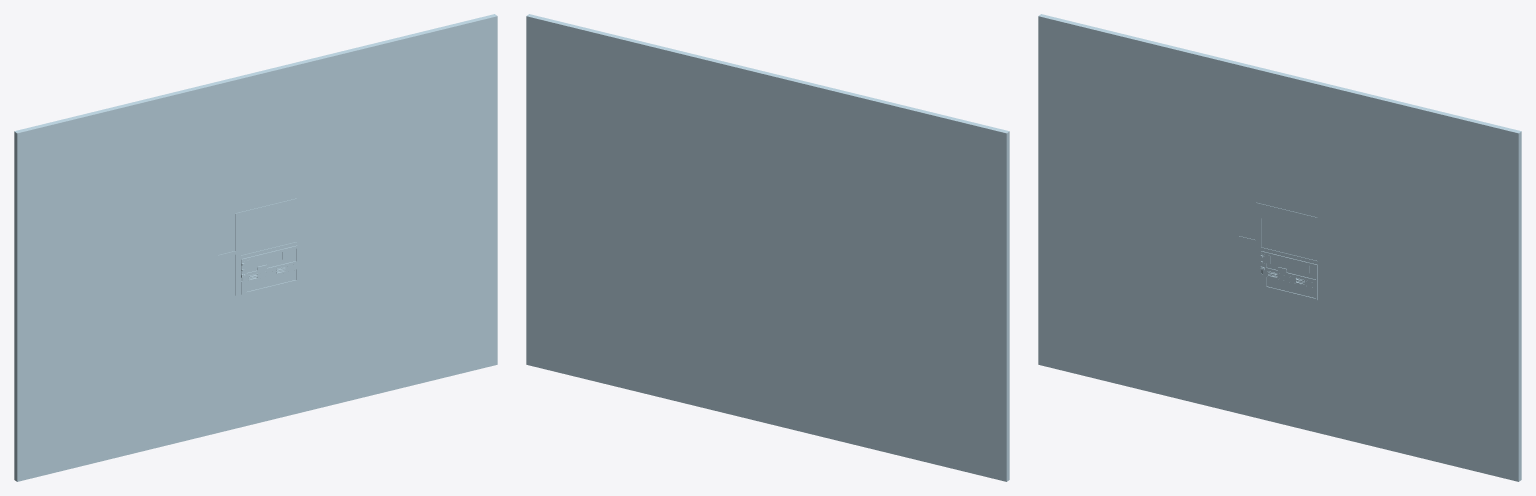
Rendered from plan.gltf.
3 views of the same model, side by side, from view 1: azimuth 30°, elevation 25°; view 2: azimuth 150°, elevation 25°; view 3: azimuth 330°, elevation 25° (orthographic).
Visible parts, largest first — view 1: mesh206_meshnode_206, mesh210_meshnode_210, mesh202_meshnode_202, mesh209_meshnode_209, mesh4_meshnode_4, mesh44_meshnode_44, mesh52_meshnode_52; view 2: mesh211_meshnode_211, mesh210_meshnode_210, mesh209_meshnode_209; view 3: mesh206_meshnode_206, mesh210_meshnode_210, mesh202_meshnode_202, mesh207_meshnode_207, mesh4_meshnode_4, mesh44_meshnode_44, mesh52_meshnode_52.
Boxes of the visible parts, box(x1,y1,x2,y2) form: mesh206_meshnode_206: box(17, 16, 497, 481); mesh210_meshnode_210: box(14, 14, 497, 133); mesh202_meshnode_202: box(218, 198, 296, 295); mesh209_meshnode_209: box(14, 131, 17, 481); mesh4_meshnode_4: box(241, 246, 297, 293); mesh44_meshnode_44: box(246, 248, 295, 272); mesh52_meshnode_52: box(246, 269, 295, 291); mesh211_meshnode_211: box(526, 16, 1006, 481); mesh210_meshnode_210: box(526, 14, 1009, 133); mesh209_meshnode_209: box(1006, 131, 1009, 481); mesh206_meshnode_206: box(1038, 16, 1518, 481); mesh210_meshnode_210: box(1038, 14, 1521, 133); mesh202_meshnode_202: box(1239, 203, 1317, 285); mesh207_meshnode_207: box(1518, 131, 1521, 481); mesh4_meshnode_4: box(1261, 251, 1316, 299); mesh44_meshnode_44: box(1266, 256, 1315, 279); mesh52_meshnode_52: box(1266, 277, 1315, 298).
Bounding box in the file's own units: 2.14 × 1.48 × 0.039.
